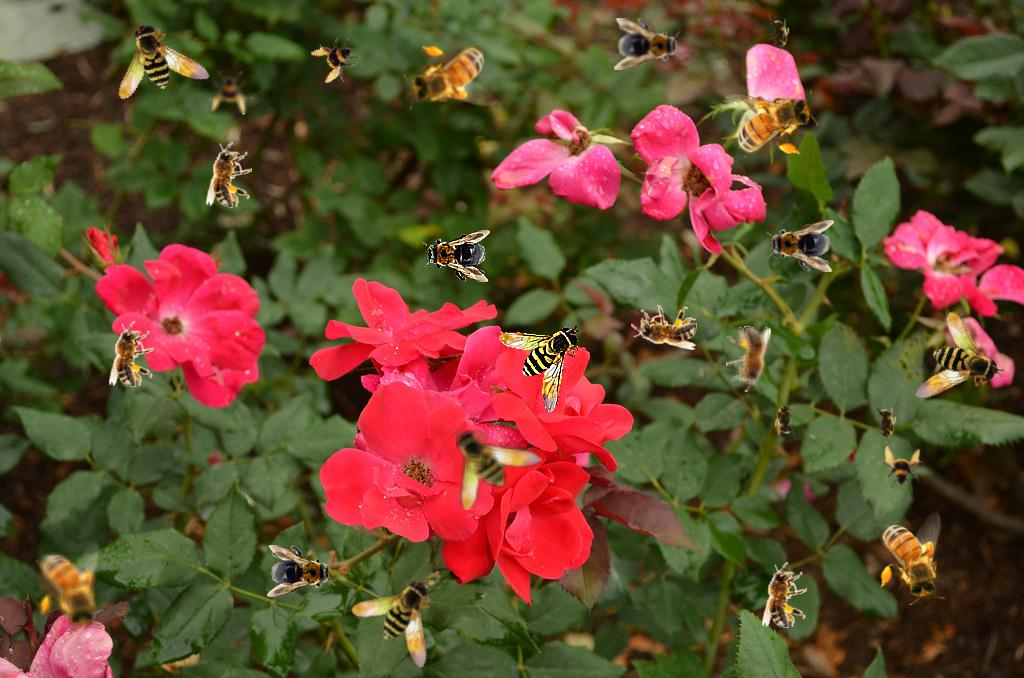Bee: (887, 305, 1007, 423), (109, 17, 221, 125), (347, 574, 453, 678), (454, 428, 542, 510), (499, 325, 581, 413), (725, 90, 818, 158), (404, 42, 497, 110), (877, 512, 945, 605), (36, 541, 104, 634), (306, 29, 368, 91), (267, 545, 335, 597), (422, 230, 490, 282), (614, 18, 682, 70), (766, 220, 834, 272), (205, 141, 253, 208), (726, 326, 771, 392), (762, 562, 807, 628), (109, 321, 154, 387), (631, 305, 697, 350), (209, 71, 253, 115), (878, 446, 922, 490), (774, 399, 796, 439), (875, 404, 897, 444), (768, 15, 790, 55)
